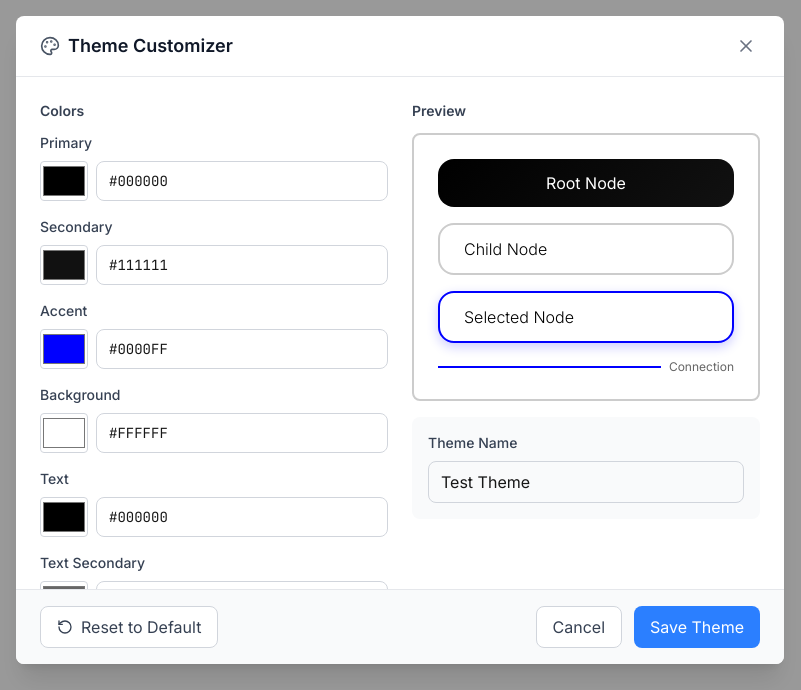
Test: ThemeCustomizer › resets to default on Reset button click
Replace the text in the field showing "Test Theme" below "Theme Name" with "Modified" at point(586, 482), box top-left (428, 461), bottom-right (744, 503)
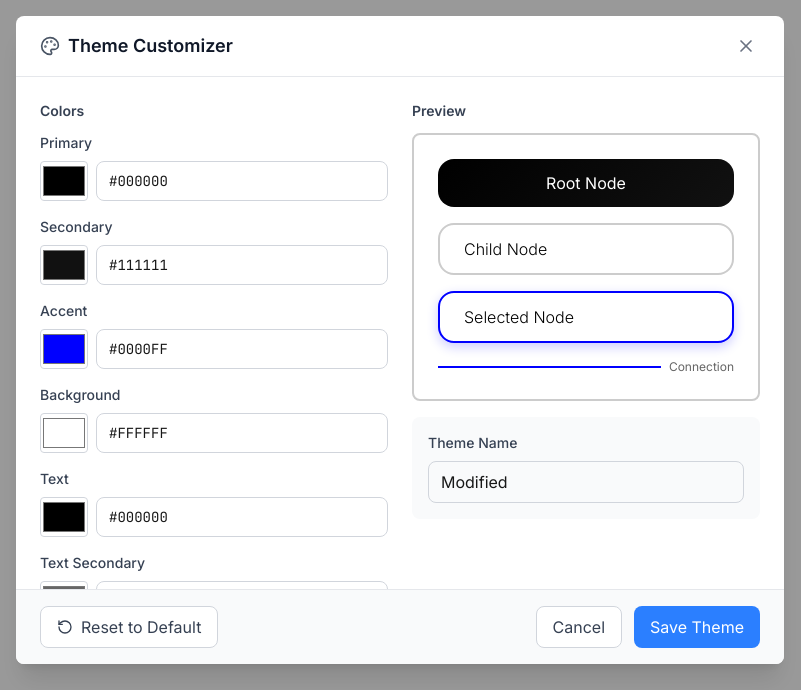
Click the button "Reset to Default" at point(129, 627), box top-left (40, 606), bottom-right (218, 648)
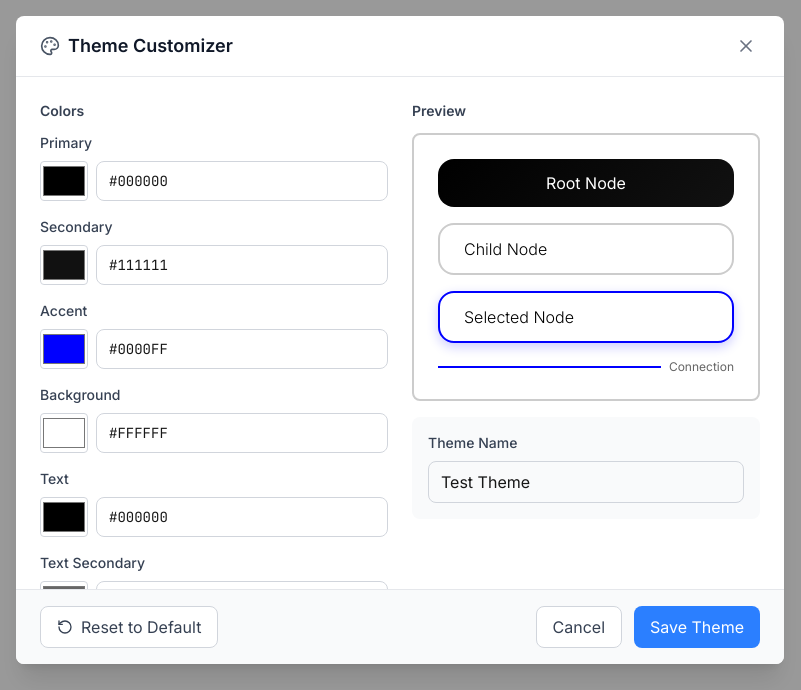
Expected: the field showing "Test Theme" below "Theme Name" holds "Test Theme", top-left (428, 461), bottom-right (744, 503)
